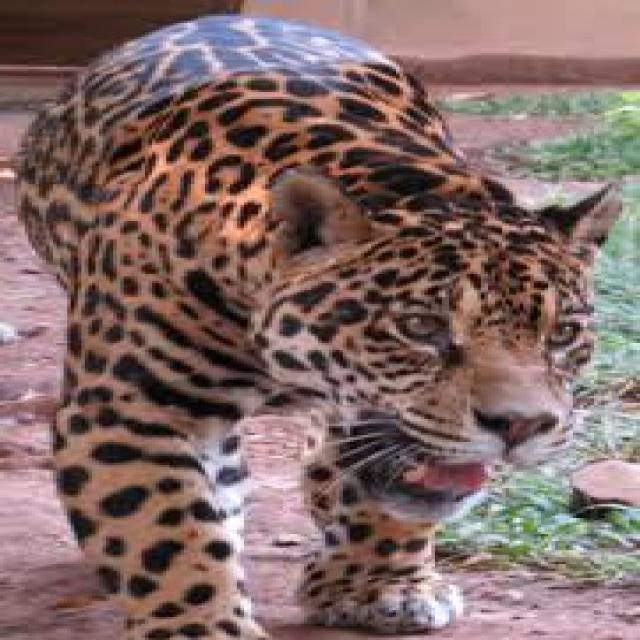Jaguar: (14, 14, 626, 640)
